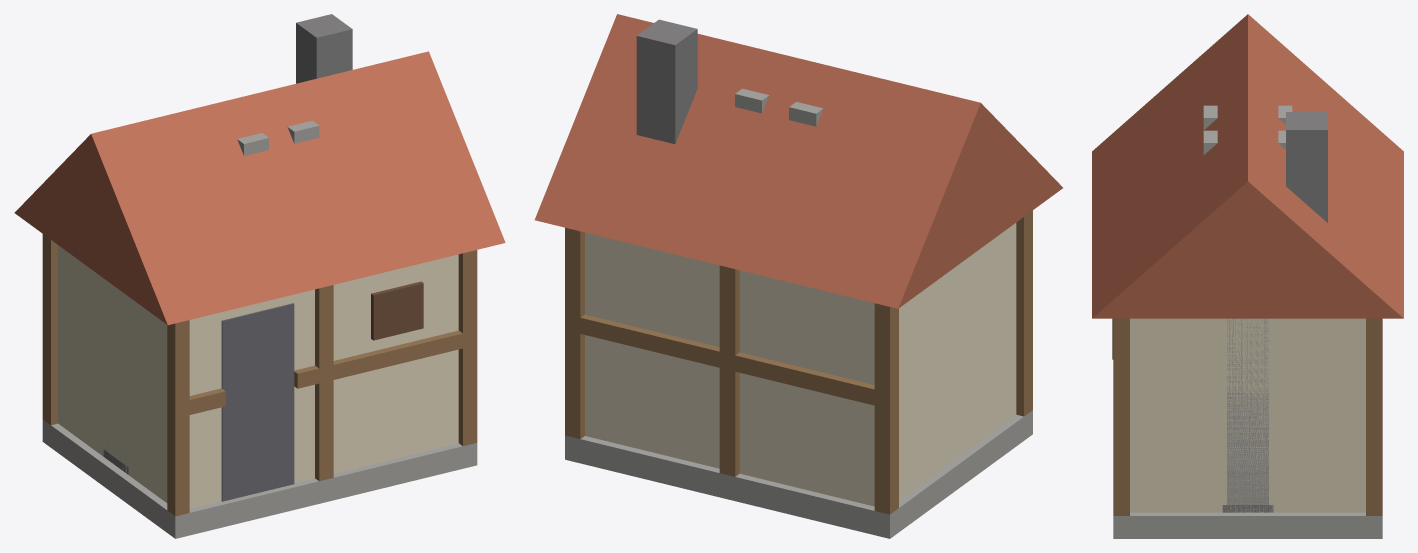
Rendered from medieval-environment-pack.glb.
The picture shows the model from 3 angles, left to right: view 1: azimuth 30°, elevation 25°; view 2: azimuth 150°, elevation 25°; view 3: azimuth 270°, elevation 25°; orthographic projection. The views are drawn at different scales.
Visible parts, largest first — view 1: SM_House_Small, SM_Wall_Stone_Pillar; view 2: SM_House_Small, SM_Wall_Stone_Pillar; view 3: SM_House_Small, SM_Wall_Stone_4m, SM_Wall_Stone_Pillar.
Part boxes in pixels (left/top/right/bottom): SM_House_Small: left=14, top=14, right=505, bottom=538; SM_Wall_Stone_Pillar: left=237, top=120, right=319, bottom=155; SM_House_Small: left=534, top=14, right=1062, bottom=538; SM_Wall_Stone_Pillar: left=735, top=88, right=823, bottom=126; SM_House_Small: left=1092, top=14, right=1403, bottom=538; SM_Wall_Stone_4m: left=1222, top=318, right=1273, bottom=512; SM_Wall_Stone_Pillar: left=1203, top=105, right=1292, bottom=154.
Size of the model in its own units: 4.7 by 5.1 by 3.7.
